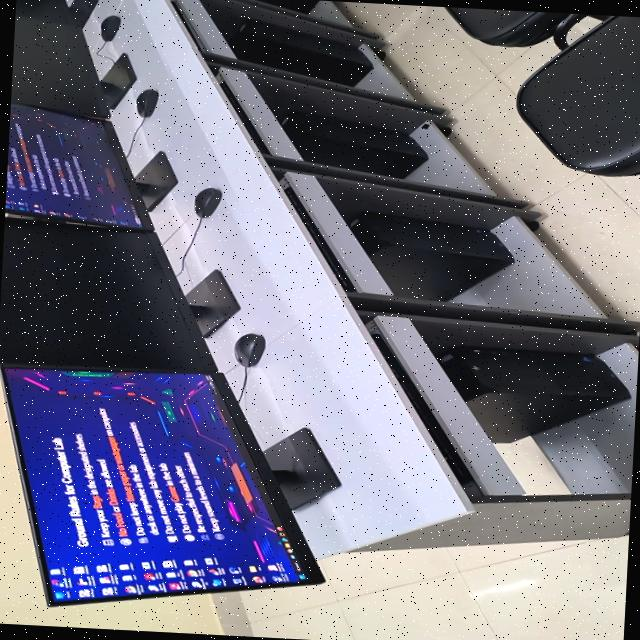Chair: (517, 15, 640, 176), (445, 6, 606, 48)
Cpu: (437, 345, 630, 442), (351, 211, 513, 300), (283, 111, 427, 178), (230, 19, 372, 86), (259, 0, 318, 12)
Keyboard: (372, 325, 483, 497), (282, 183, 355, 290), (220, 78, 270, 153)
Monitor: (1, 366, 339, 605), (0, 217, 238, 371), (5, 102, 177, 230), (11, 13, 135, 118), (16, 0, 98, 27)
Mouse: (234, 333, 265, 367), (194, 187, 221, 217), (136, 89, 158, 117), (101, 15, 121, 41)
